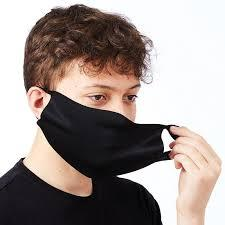Wore Mask Incorrectly: (14, 3, 159, 170)
